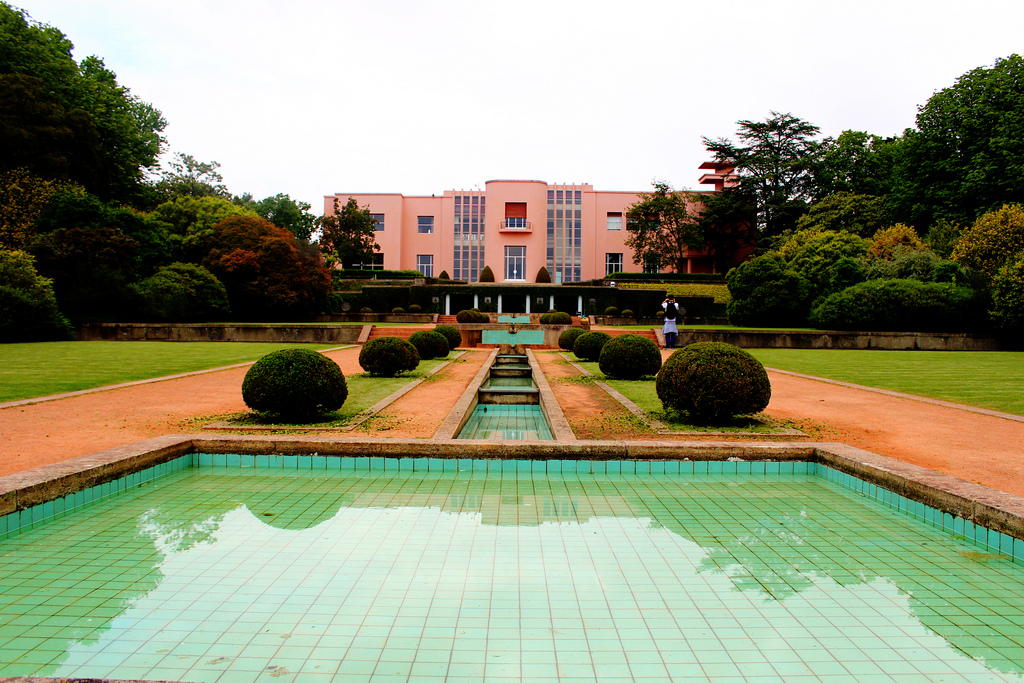serralves: (326, 150, 758, 285)
